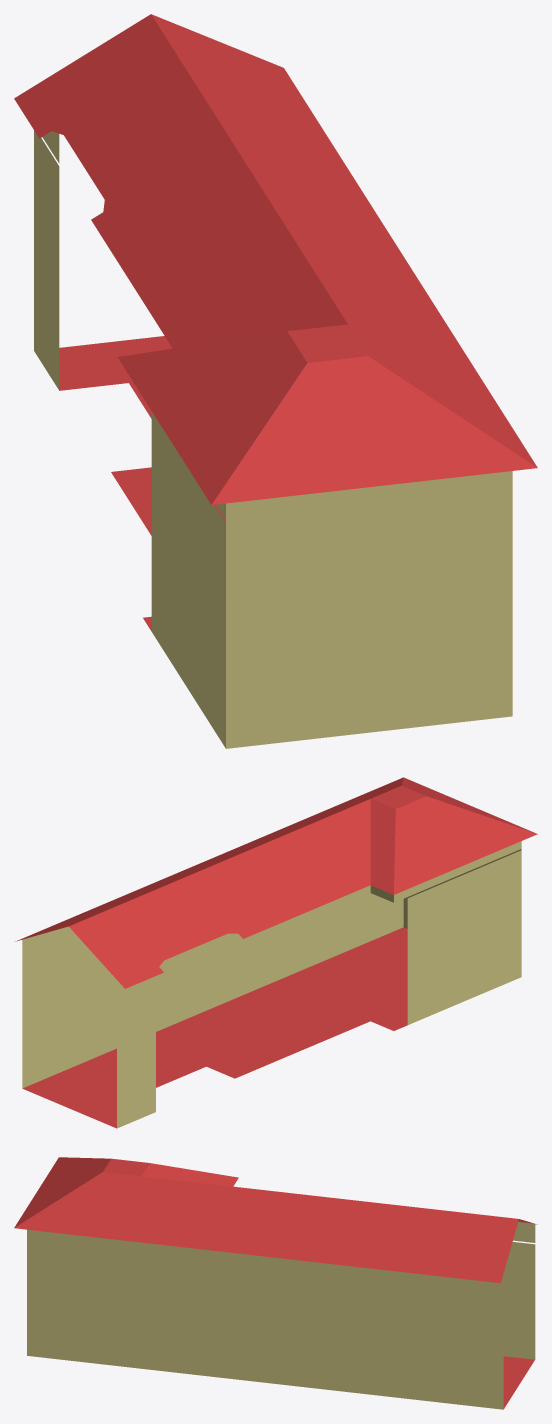
3 views of the same model, one above another, from view 1: azimuth 30°, elevation 25°; view 2: azimuth 150°, elevation 25°; view 3: azimuth 270°, elevation 25° (orthographic). The views are drawn at different scales.
Bounding box in the file's own units: 21.09 × 37.07 × 12.98.
